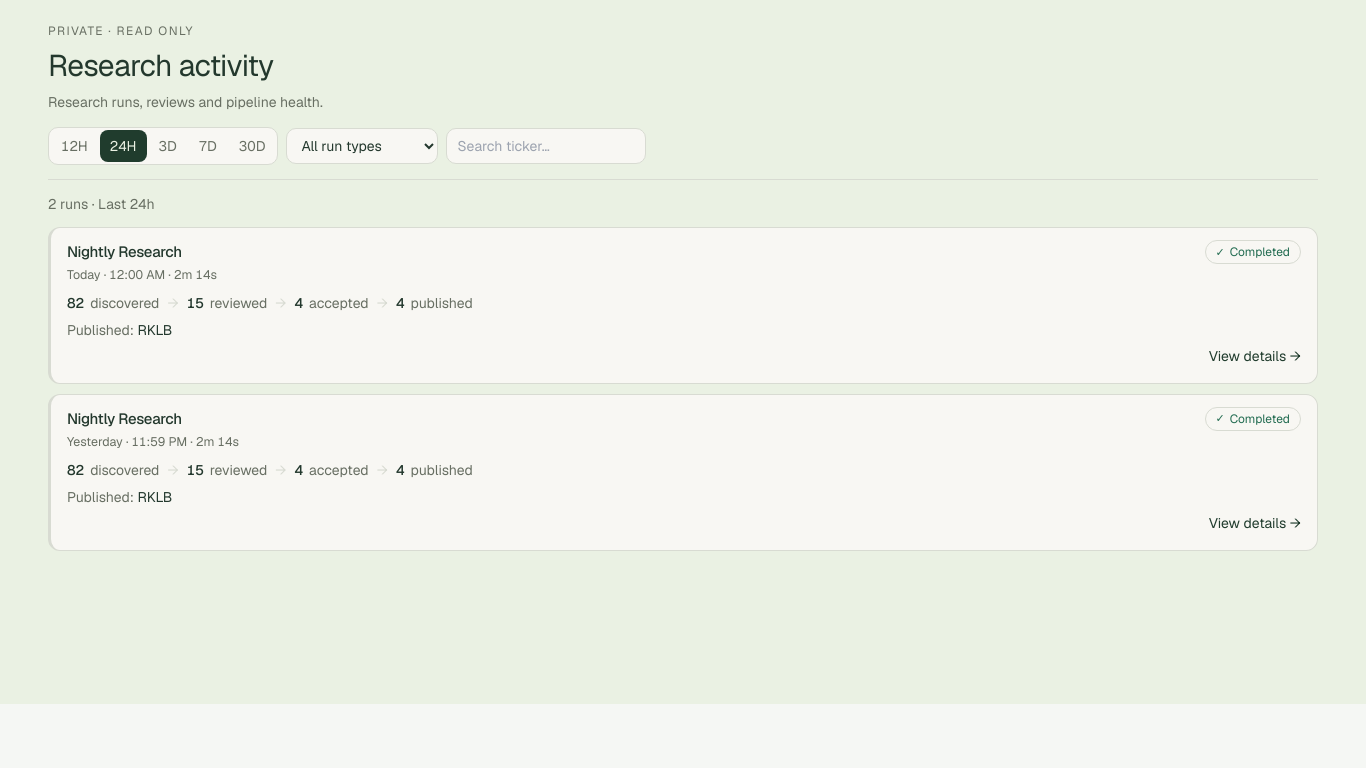
Test case: research activity page › includes the 12H boundary and excludes older and future runs
This screenshot has width=1366, height=768.
Click the button "12H". click: (74,146)
box: [51,130,98,162]
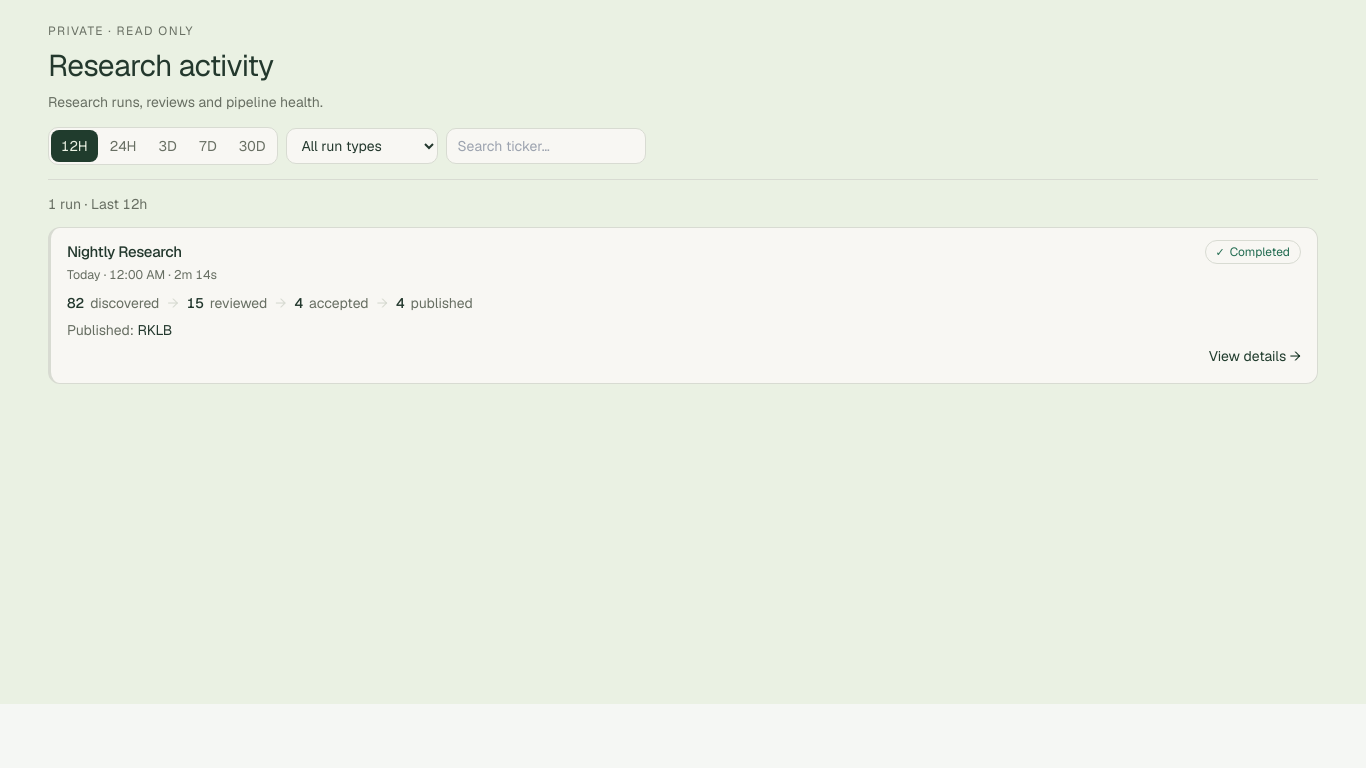
Check: the message shows "1 run ·", box [48,195,148,213]
